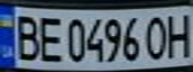0: (63, 15, 87, 63)
4: (84, 15, 106, 63)
6: (121, 14, 145, 62)
9: (103, 15, 124, 63)
B: (9, 10, 42, 62)
E: (33, 12, 63, 63)
H: (163, 10, 193, 58)
O: (142, 12, 172, 61)
